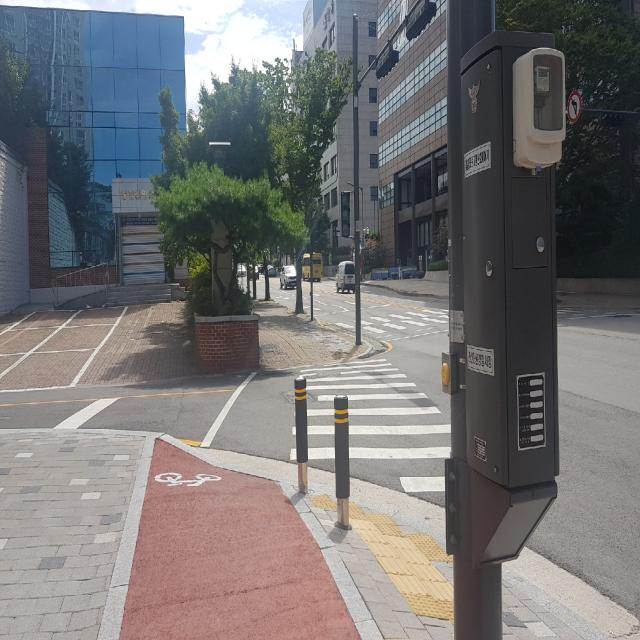횡단보도: (289, 356, 453, 496), (366, 314, 447, 337)
